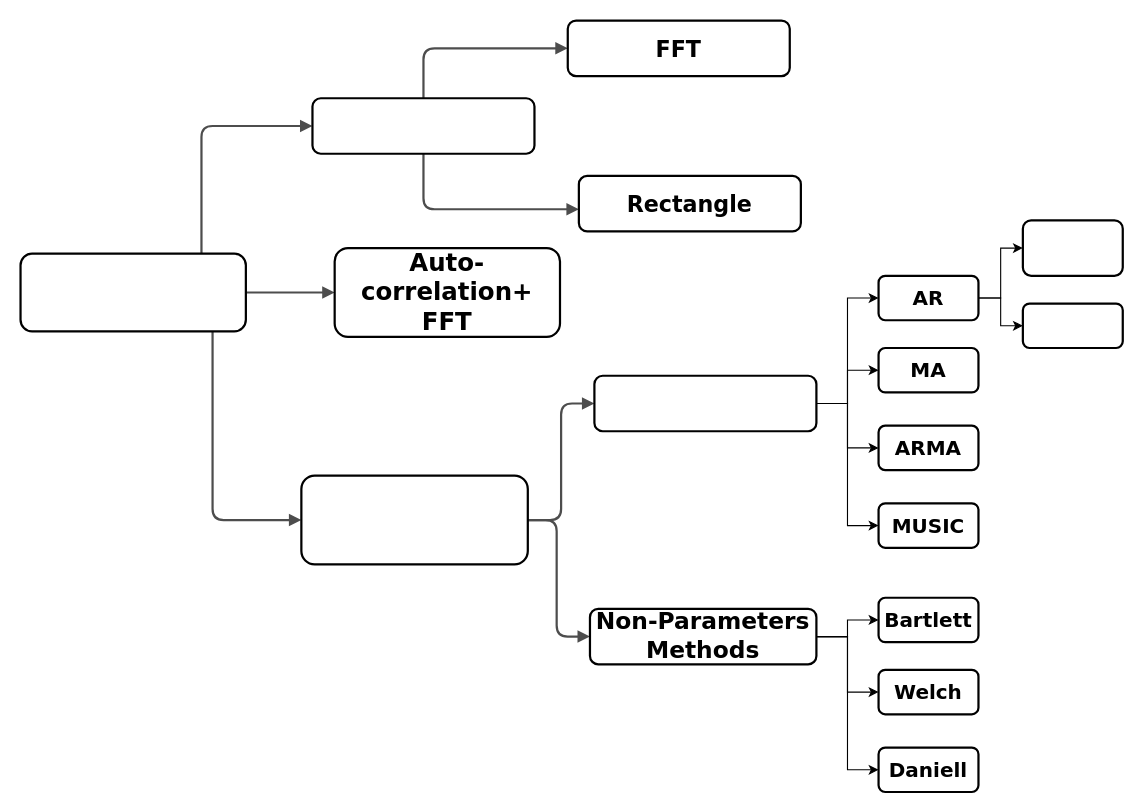
Some shapes in this 1142 by 811 pixel diagram are drawn without their labels. The shapes that lost their labels are listed below. From the top down, each one's box as (x1, y1, x2, y2) in pixels, then its label:
(311, 97, 535, 154): Periodogram
(1021, 219, 1123, 276): Yule-Walker
(19, 252, 246, 332): Classical PSD Estimation
(1021, 302, 1123, 349): Burg
(593, 374, 817, 432): Parameters Methods
(300, 474, 528, 565): Improved Periodogram
